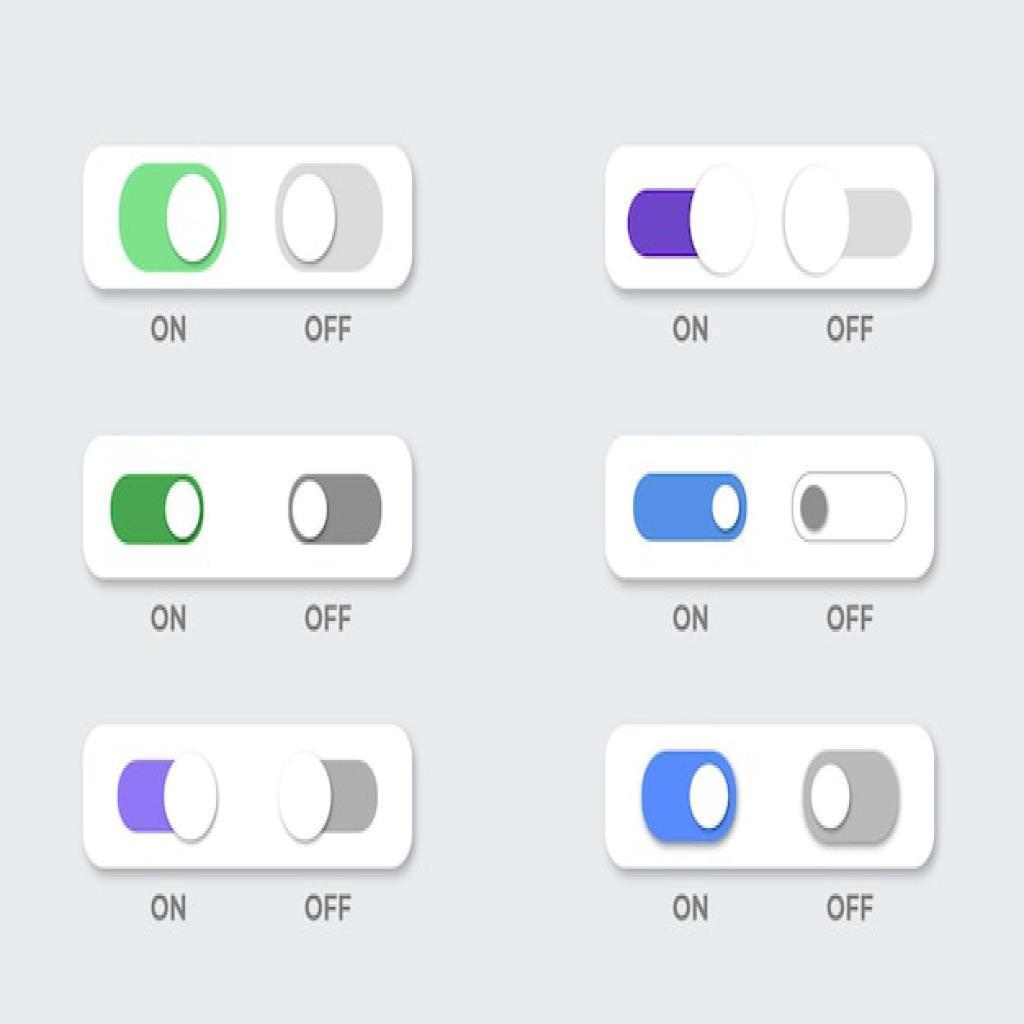switch: (626, 166, 762, 281), (784, 166, 918, 276), (119, 162, 226, 273), (279, 166, 387, 273), (801, 748, 904, 854), (642, 746, 740, 851), (276, 752, 384, 844), (114, 753, 221, 842), (795, 472, 908, 549), (634, 471, 750, 545), (111, 472, 207, 549), (290, 473, 387, 546)
